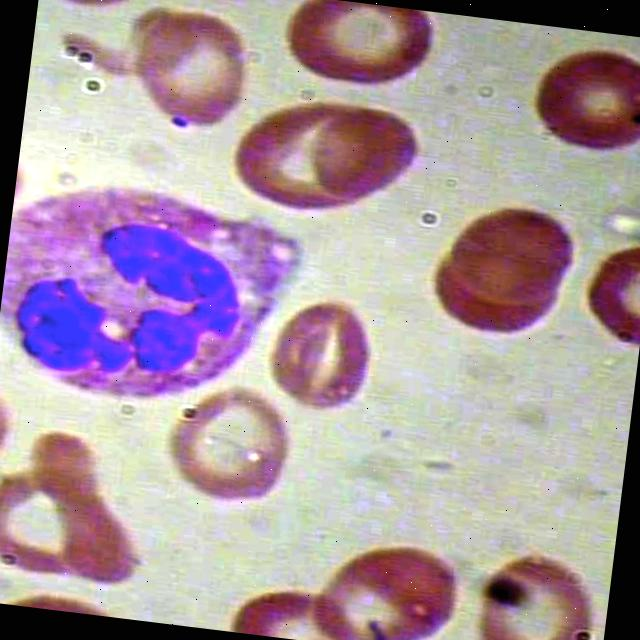RBC: (305, 525, 473, 640), (260, 292, 400, 428), (156, 381, 296, 516), (127, 0, 267, 135), (274, 0, 444, 106), (512, 35, 640, 164), (442, 200, 584, 312), (466, 545, 605, 640), (307, 104, 437, 205)
WBC: (0, 170, 321, 422)
